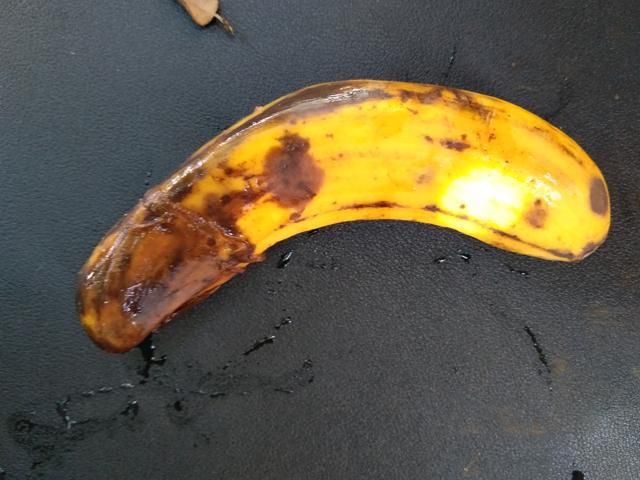rotten: (58, 63, 618, 375)
